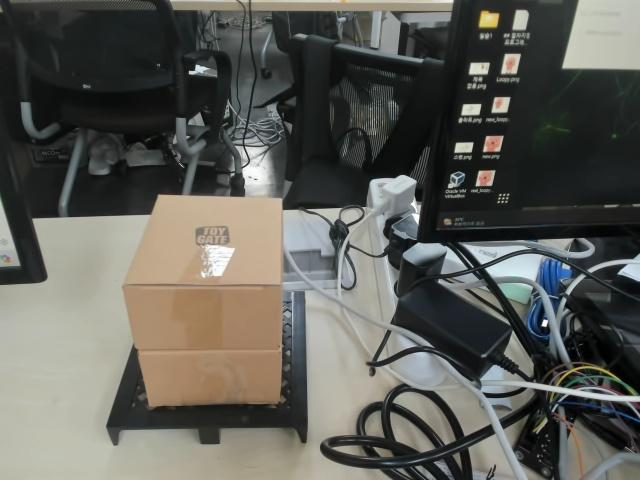box: (106, 193, 309, 445)
